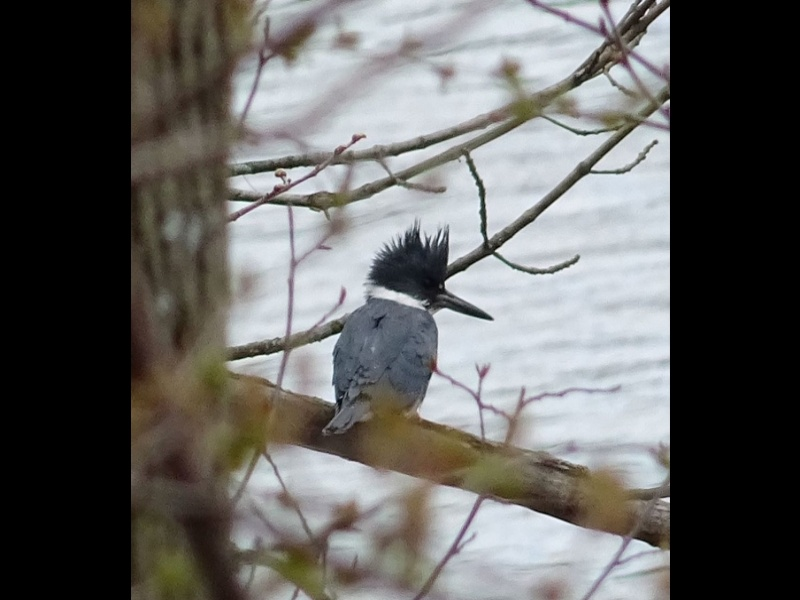kingfisher: (309, 224, 496, 451)
